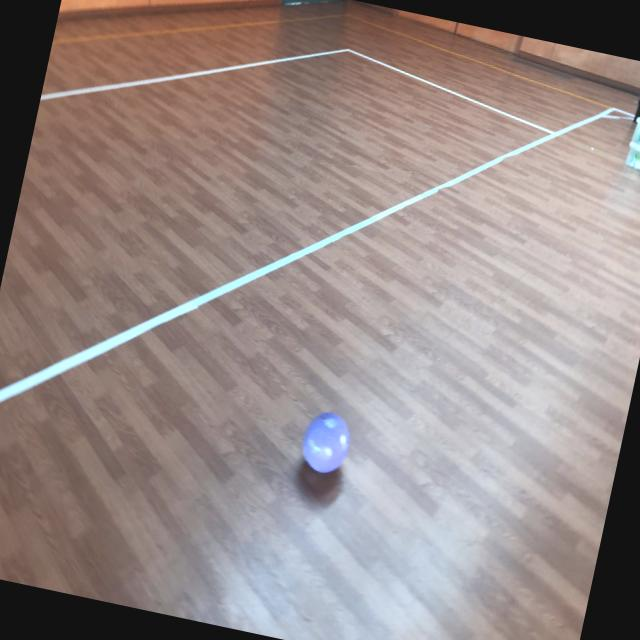purple_ball: (298, 407, 353, 476)
